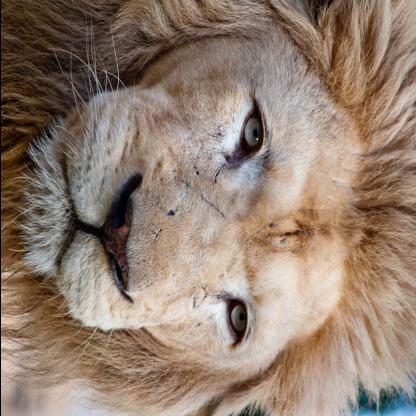lion: (0, 1, 406, 413)
